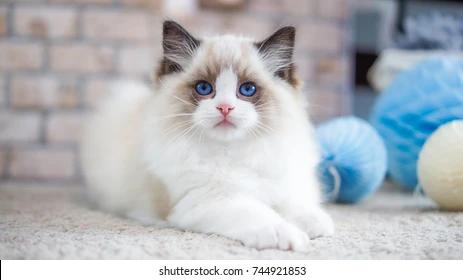ragdoll: (148, 5, 308, 165)
